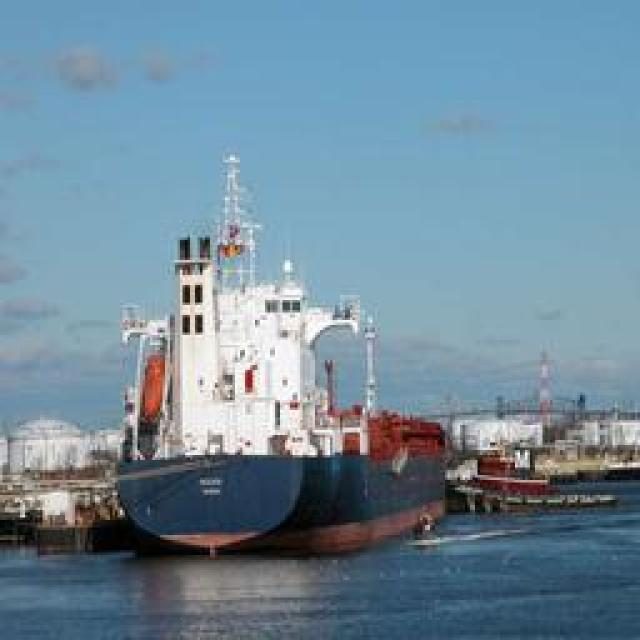CIV_Ship: (116, 151, 444, 561)
